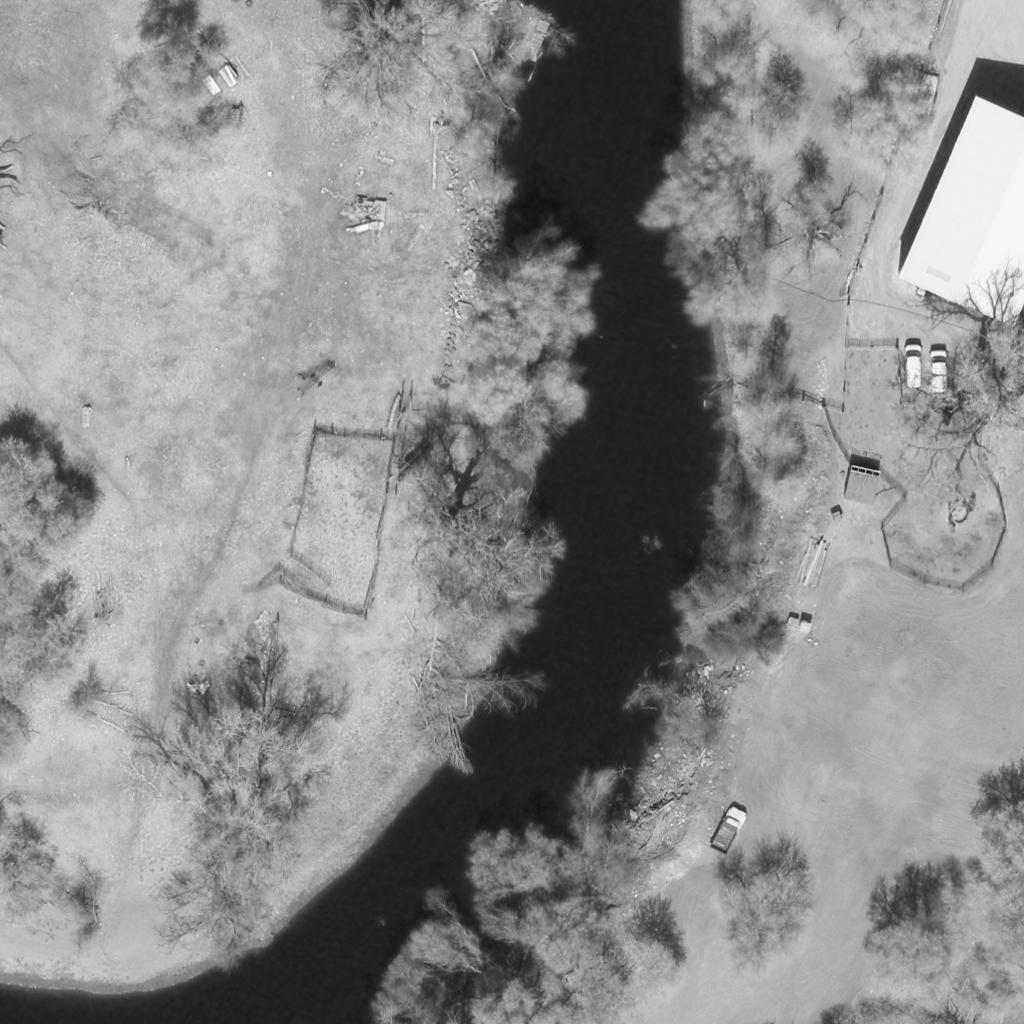vehicle: (709, 808, 749, 854), (932, 351, 950, 393), (905, 346, 921, 388)
